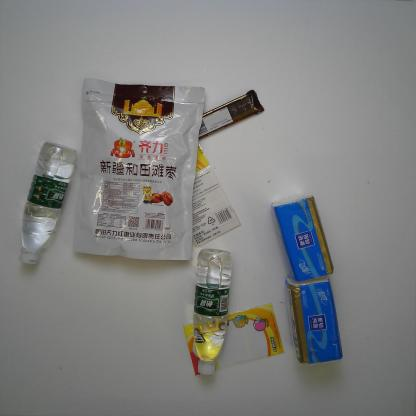Chocolate: (196, 88, 265, 141)
Dried Food: (70, 76, 207, 265)
Drink: (18, 140, 79, 270), (193, 245, 235, 377)
Stationery: (180, 301, 286, 377), (190, 142, 243, 249)
Tissue: (268, 190, 336, 284), (284, 274, 345, 368)
